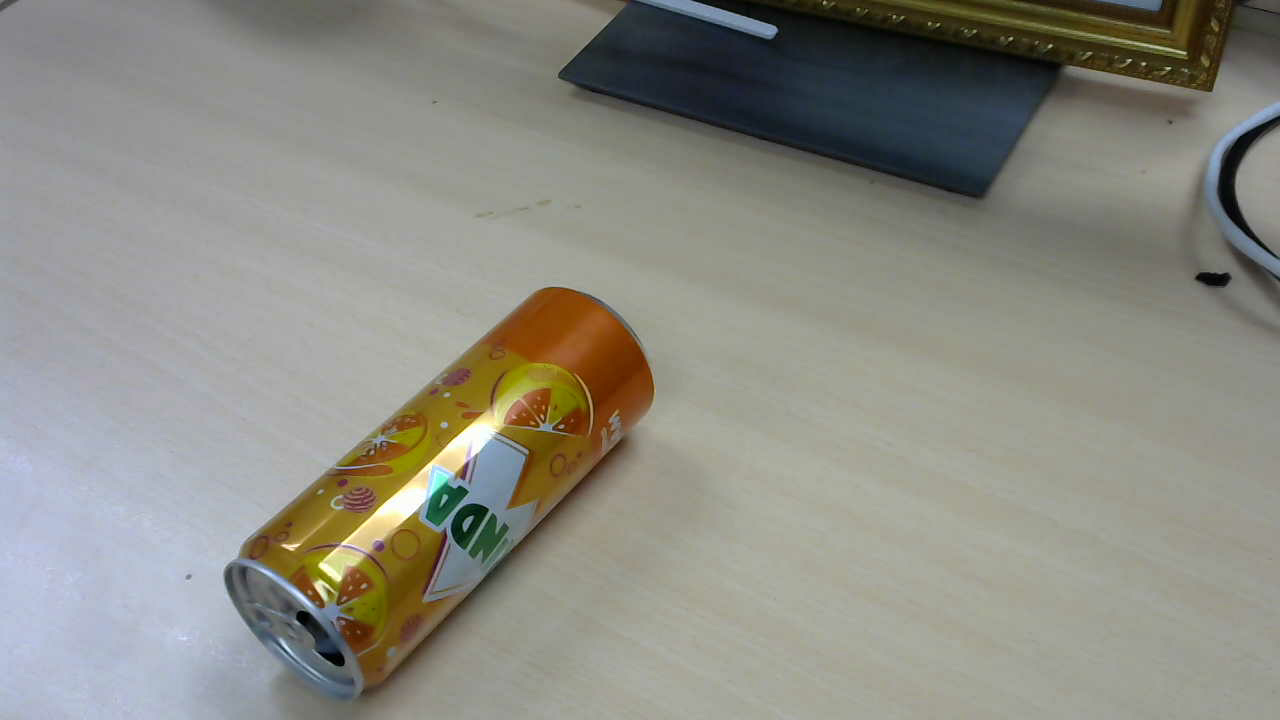Mirinda: (232, 289, 661, 696)
